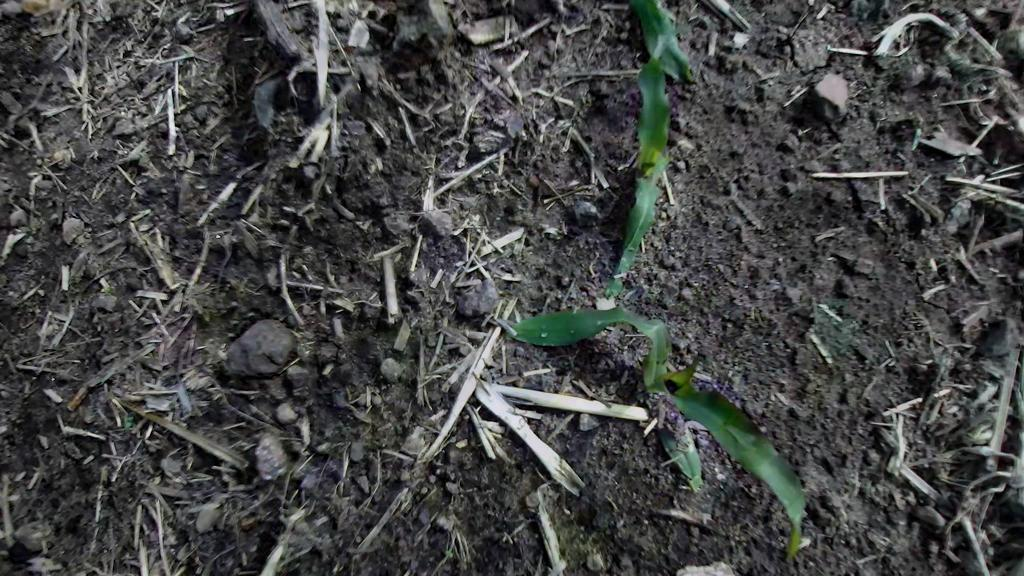BroWeed: (909, 127, 924, 151), (123, 411, 135, 429), (443, 548, 455, 560)
Maize: (498, 248, 860, 563), (601, 54, 687, 304)
